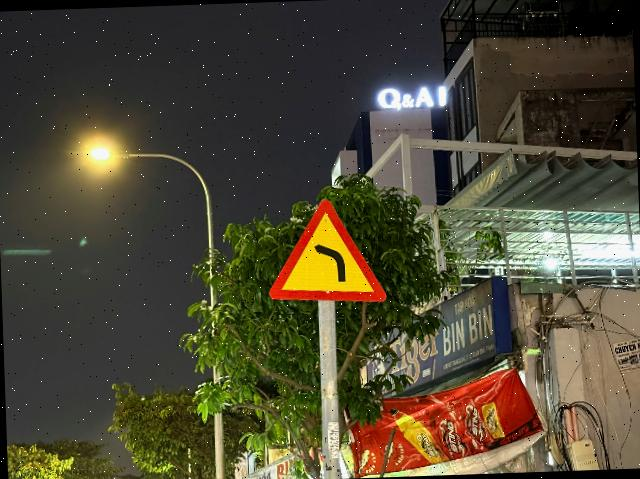cho-ngoat-nguy-hiem-ben-trai: (265, 196, 387, 308)
